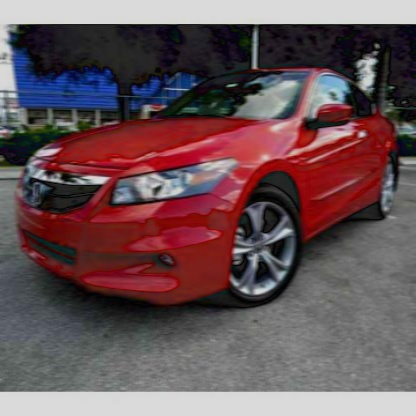Vehicle: (15, 68, 401, 306)
